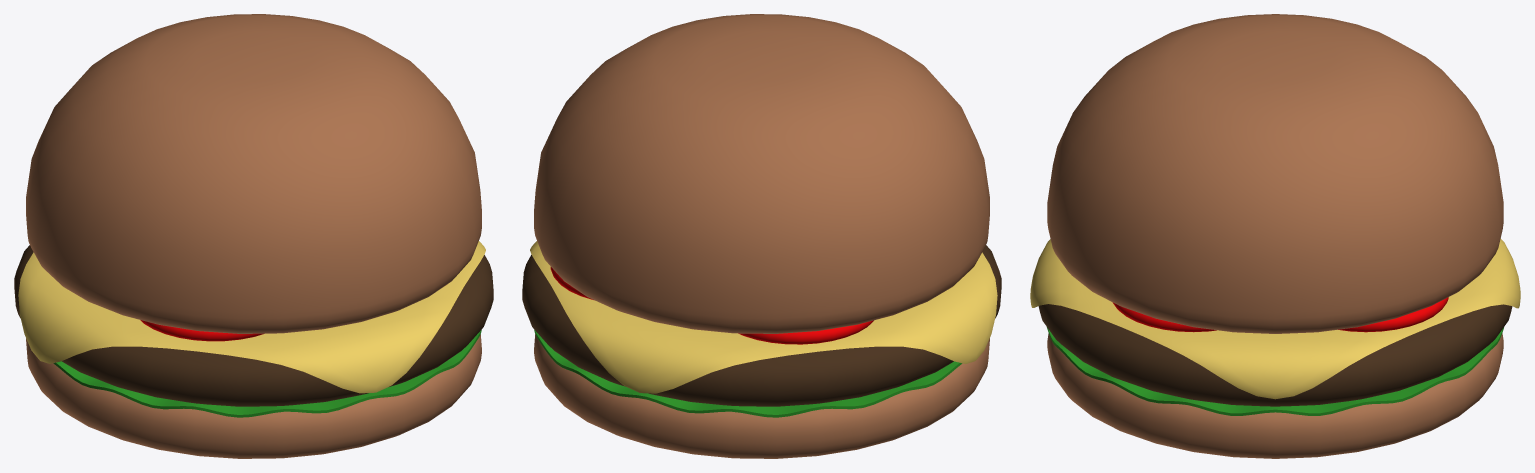
Rendered from Hamburger.fbx.
The picture shows the model from 3 angles, left to right: view 1: azimuth 30°, elevation 25°; view 2: azimuth 150°, elevation 25°; view 3: azimuth 270°, elevation 25°; orthographic projection.
Visible parts, largest first — view 1: Pane, Formaggio, Carne, Insalata, Pomodoro1; view 2: Pane, Formaggio, Carne, Insalata, Pomodoro1; view 3: Pane, Carne, Formaggio, Insalata, Pomodoro1.
Boxes of the visible parts, left/top/right/bottom form: Pane: left=26, top=14, right=481, bottom=458; Formaggio: left=18, top=241, right=485, bottom=393; Carne: left=14, top=245, right=493, bottom=406; Insalata: left=53, top=330, right=481, bottom=417; Pomodoro1: left=140, top=320, right=264, bottom=341; Pane: left=534, top=14, right=989, bottom=458; Formaggio: left=530, top=241, right=997, bottom=393; Carne: left=522, top=245, right=1001, bottom=406; Insalata: left=534, top=330, right=962, bottom=417; Pomodoro1: left=550, top=267, right=873, bottom=344; Pane: left=1047, top=14, right=1503, bottom=458; Carne: left=1038, top=304, right=1512, bottom=406; Formaggio: left=1030, top=238, right=1520, bottom=399; Insalata: left=1047, top=327, right=1503, bottom=415; Pomodoro1: left=1112, top=297, right=1448, bottom=332.
Bounding box in the file's own units: 215 × 152 × 215.
